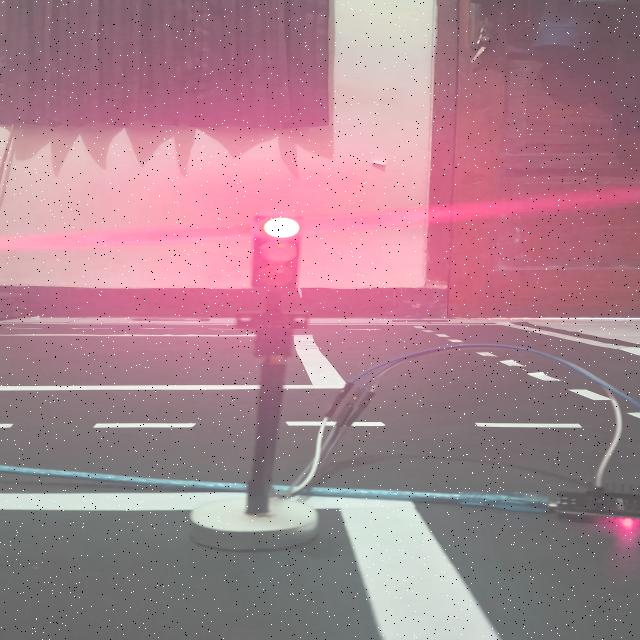Lampu Merah: (252, 216, 302, 296)
